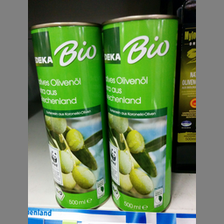oil: (100, 14, 179, 211), (29, 21, 110, 210)
